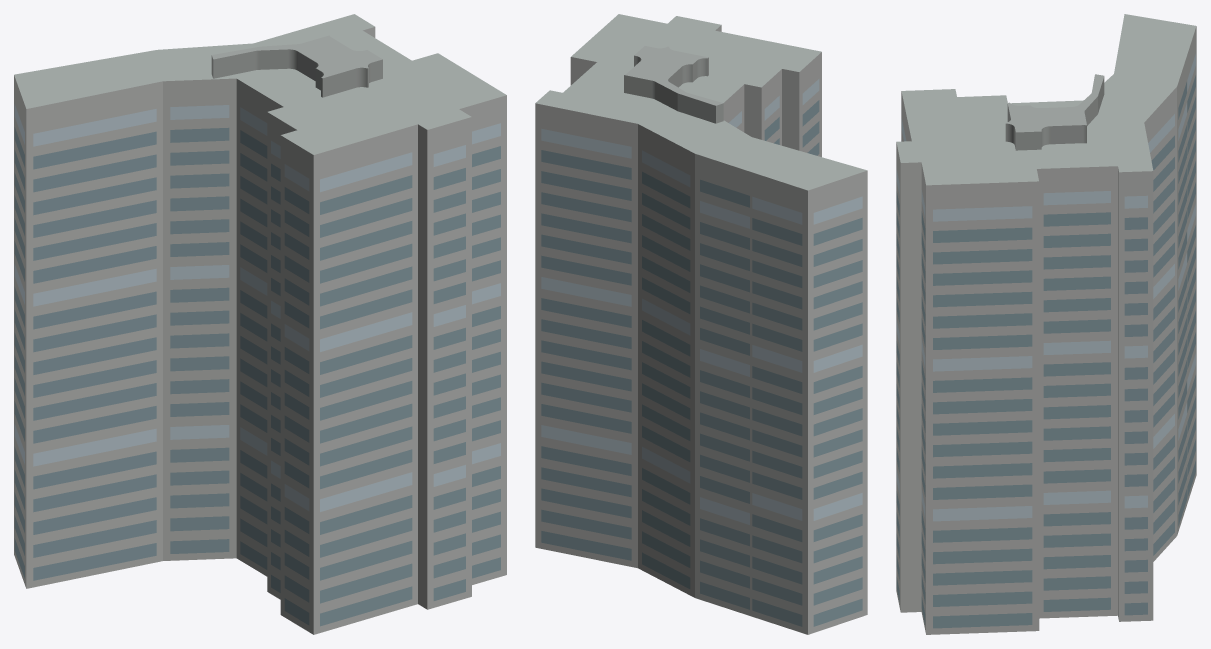
File: fallback-seoulforest-riverview-xi-107.glb
3 views of the same model, side by side, from view 1: azimuth 30°, elevation 25°; view 2: azimuth 150°, elevation 25°; view 3: azimuth 270°, elevation 25° (orthographic). The views are drawn at different scales.
Visible parts, largest first — view 1: fallback-seoulforest-riverview-xi-107; view 2: fallback-seoulforest-riverview-xi-107; view 3: fallback-seoulforest-riverview-xi-107.
Boxes of the visible parts, <box> form: fallback-seoulforest-riverview-xi-107: <box>14,14,506,634</box>; fallback-seoulforest-riverview-xi-107: <box>535,14,867,634</box>; fallback-seoulforest-riverview-xi-107: <box>896,14,1196,634</box>.
Size of the model in its own units: 48.71 by 62 by 36.05.
